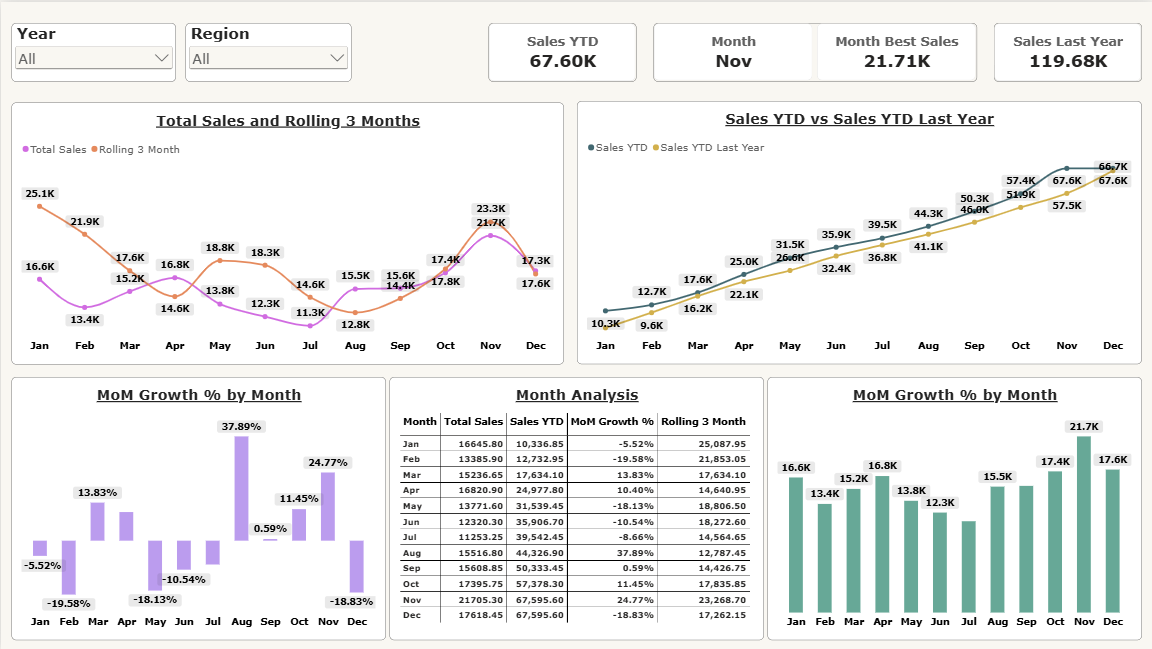

Layout of this report page (visuals, bound fields, positions):
{"tool":"powerbi","page":{"name":"TIME ANALYSIS","canvas":[1920,1080],"ordinal":1},"visuals":[{"type":"cardVisual","fields":{"Data":["Measure Time analysis.Sales YTD"]},"box":[813.6,35.8,246.4,98.1],"z":0},{"type":"slicer","fields":{"Values":["Date Table.Year"]},"box":[17.6,35.2,274.1,98.1],"z":1000},{"type":"slicer","fields":{"Values":["Stores.Region"]},"box":[306.7,35.2,276.6,98.1],"z":2000},{"type":"cardVisual","fields":{"Data":["Measure Time analysis.best month","Measure Time analysis.Month Best Sales"]},"box":[1088,35.8,539.2,97.8],"z":3000},{"type":"cardVisual","fields":{"Data":["Measure Time analysis.Sales Last Year1"]},"box":[1655.8,35.8,246.4,98.1],"z":4000},{"type":"lineChart","title":"Total Sales and Rolling 3 Months","fields":{"Category":["Date Table.Month"],"Y":["Measure Overview.Total Sales","Measure Time analysis.Rolling 3 Month"]},"box":[16.7,167,921,436.6],"z":5000},{"type":"columnChart","title":"MoM Growth % by Month","fields":{"Category":["Date Table.Month"],"Y":["Measure Time analysis.MoM Growth %"]},"box":[17.1,624.3,624.3,439],"z":6000},{"type":"lineChart","title":"Sales YTD vs Sales YTD Last Year","fields":{"Category":["Date Table.Month"],"Y":["Measure Time analysis.Sales YTD","Measure Time analysis.Sales YTD Last Year"]},"box":[960.8,165.8,941.3,439],"z":7000},{"type":"tableEx","title":"Month Analysis","fields":{"Values":["Date Table.Month","Measure Overview.Total Sales","Measure Time analysis.Sales YTD","Measure Time analysis.MoM Growth %","Measure Time analysis.Rolling 3 Month"]},"box":[648.7,624.3,624.3,439],"z":8000},{"type":"columnChart","title":"MoM Growth % by Month","fields":{"Category":["Date Table.Month"],"Y":["Measure Overview.Total Sales"]},"box":[1277.8,624.3,624.3,439],"z":9000}]}

Visuals, with their boxes in screenshot pixels (x1, y1, x2, y2), scaled from the page's 1920x1080 canvas onto the 1152x649 screenshot:
cardVisual - Measure Time analysis.Sales YTD: {"left": 488, "top": 22, "right": 636, "bottom": 80}
slicer - Date Table.Year: {"left": 11, "top": 21, "right": 175, "bottom": 80}
slicer - Stores.Region: {"left": 184, "top": 21, "right": 350, "bottom": 80}
cardVisual - Measure Time analysis.best month x Measure Time analysis.Month Best Sales: {"left": 653, "top": 22, "right": 976, "bottom": 80}
cardVisual - Measure Time analysis.Sales Last Year1: {"left": 993, "top": 22, "right": 1141, "bottom": 80}
"Total Sales and Rolling 3 Months" lineChart: {"left": 10, "top": 100, "right": 563, "bottom": 363}
"MoM Growth % by Month" columnChart: {"left": 10, "top": 375, "right": 385, "bottom": 639}
"Sales YTD vs Sales YTD Last Year" lineChart: {"left": 576, "top": 100, "right": 1141, "bottom": 363}
"Month Analysis" tableEx: {"left": 389, "top": 375, "right": 764, "bottom": 639}
"MoM Growth % by Month" columnChart: {"left": 767, "top": 375, "right": 1141, "bottom": 639}
